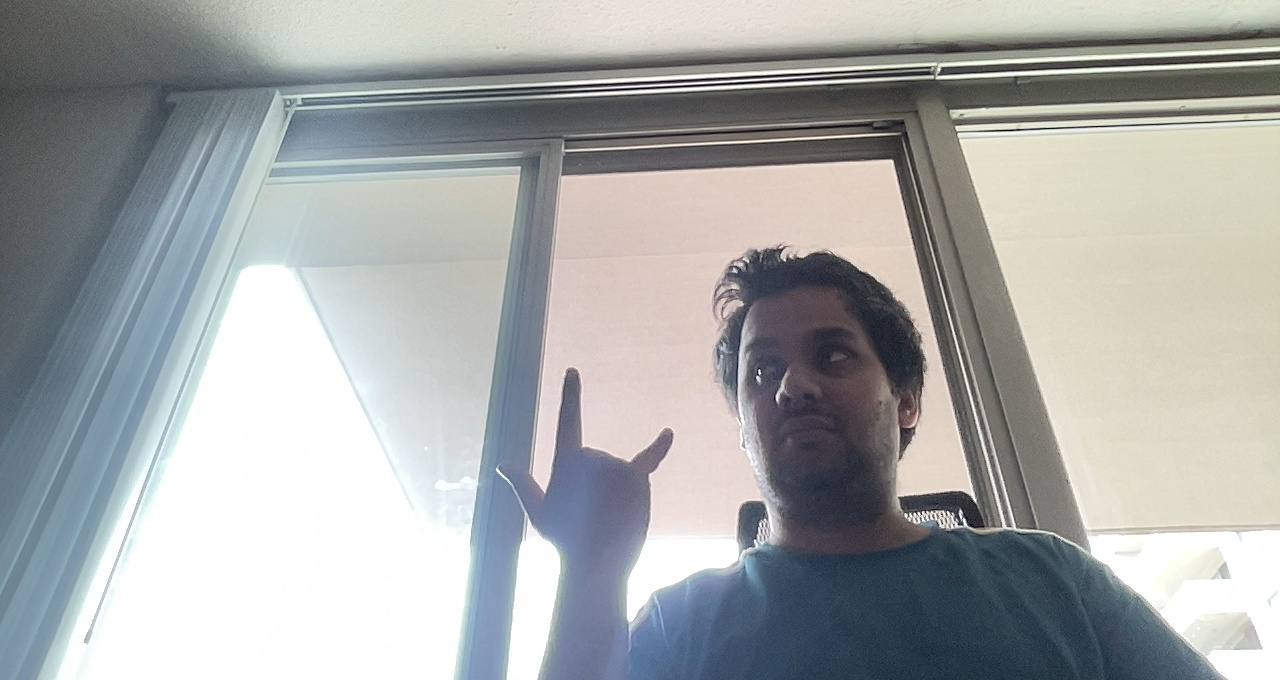rockon sign: (484, 357, 694, 584)
